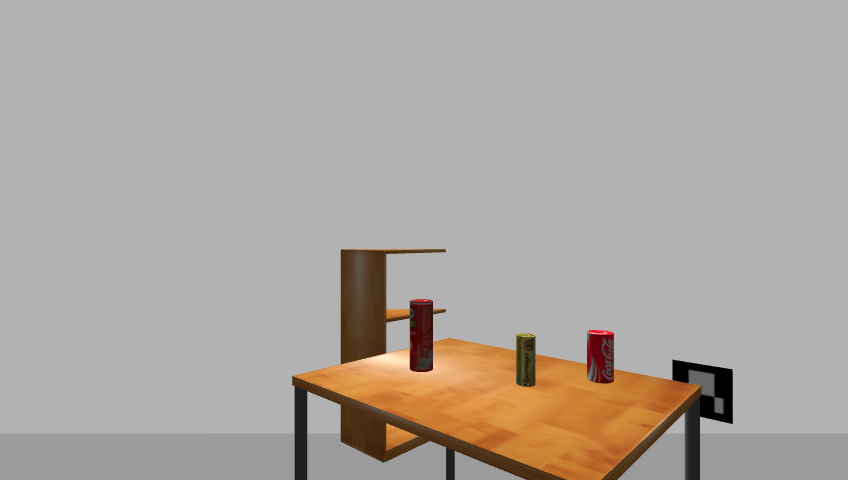aruco marker: (668, 358, 738, 425)
biscuits pack: (515, 333, 537, 388)
bookshelf: (334, 244, 449, 467)
coke can: (585, 330, 617, 384)
dinner table: (287, 341, 710, 479)
pringles can: (408, 299, 435, 374)
